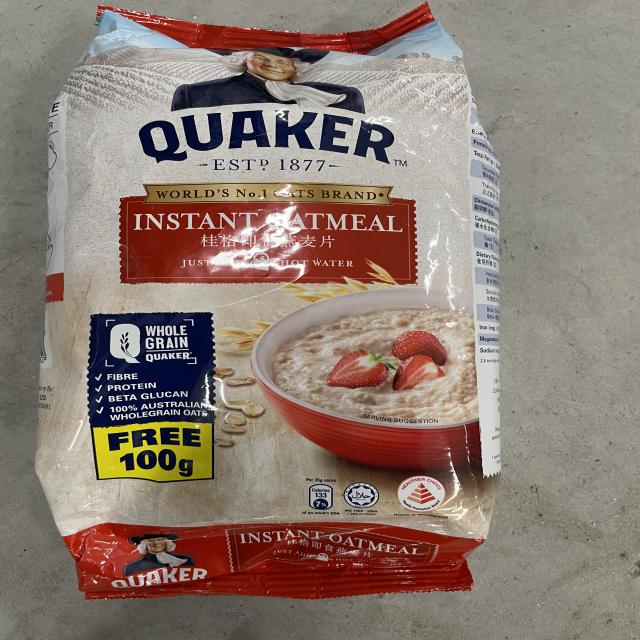object_name: (70, 40, 470, 583)
